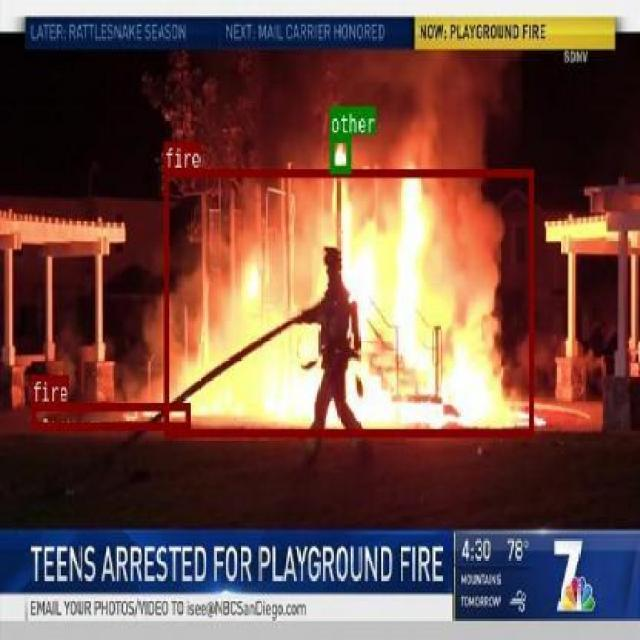Fire: (164, 167, 533, 435), (30, 402, 190, 427)
